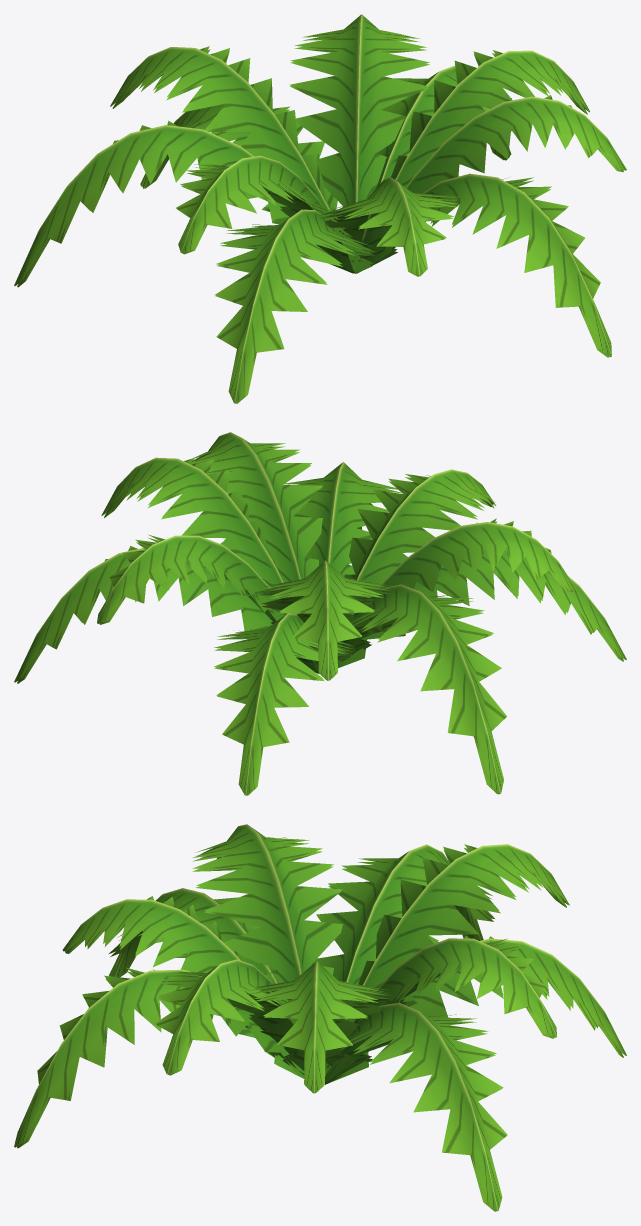
The model's file is Kit_Fern.obj.
3 views of the same model, one above another, from view 1: azimuth 30°, elevation 25°; view 2: azimuth 150°, elevation 25°; view 3: azimuth 270°, elevation 25° (orthographic). The views are drawn at different scales.
Parts seen in each view (by area): view 1: Kit_Fern; view 2: Kit_Fern; view 3: Kit_Fern.
Part boxes in pixels (x1,y1,x2,y2): Kit_Fern: (14, 14, 626, 403); Kit_Fern: (14, 432, 626, 795); Kit_Fern: (14, 824, 626, 1211).
Bounding box in the file's own units: 8.57 × 3.19 × 8.67.
Materials: 1 (1 with a texture image).
